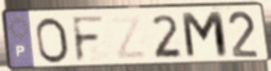2: (228, 10, 260, 59), (153, 13, 185, 61)
F: (70, 15, 108, 65)
M: (179, 10, 231, 62)
O: (34, 16, 72, 66)
Z: (109, 14, 150, 61)
